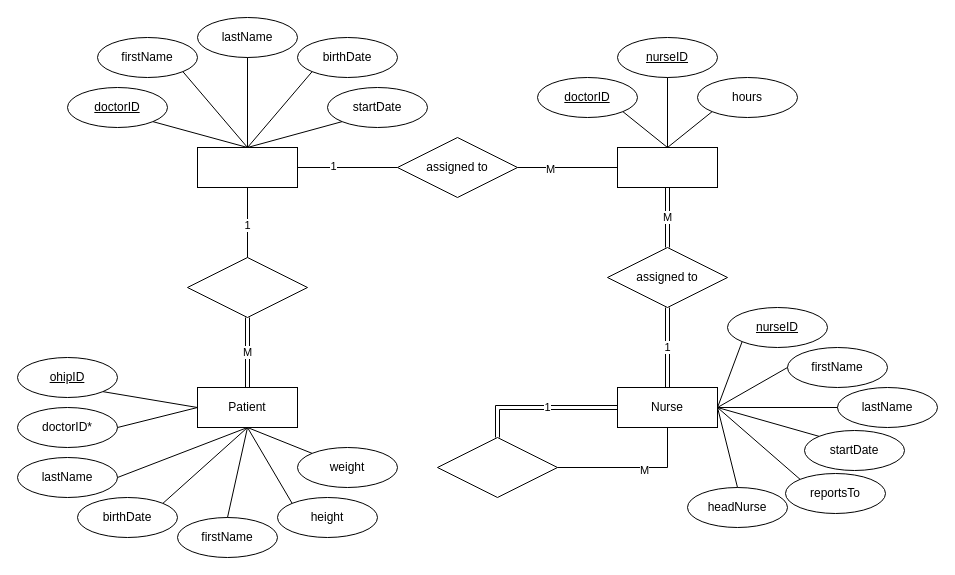
This 955x575 diagram has some shape labels left out. The shapes that lost their labels are listed below. From the top down, each one's centre as x and y in pixels, then its label:
At pixel 247 167: "Doctor".
At pixel 667 167: "Doctor_Nurse".
At pixel 247 287: "treats".
At pixel 497 467: "reports to".
